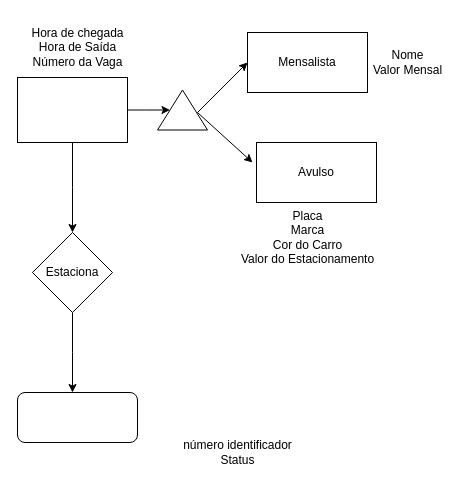
Some shapes in this 470 by 489 pixel diagram are drawn without their labels. The shapes that lost their labels are listed below. From the top down, each one's centre as x and y in pixels, then its label:
At point 72,109: "Cliente".
At point 77,417: "Vaga".
